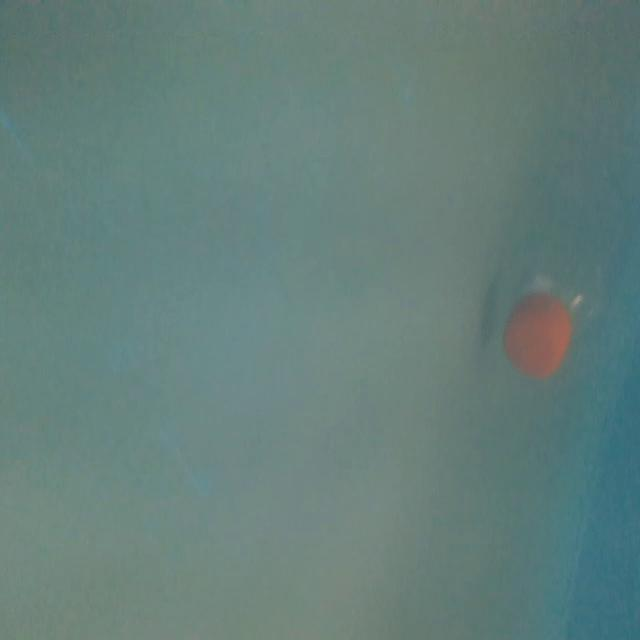plastic bottle: (498, 172, 629, 382)
